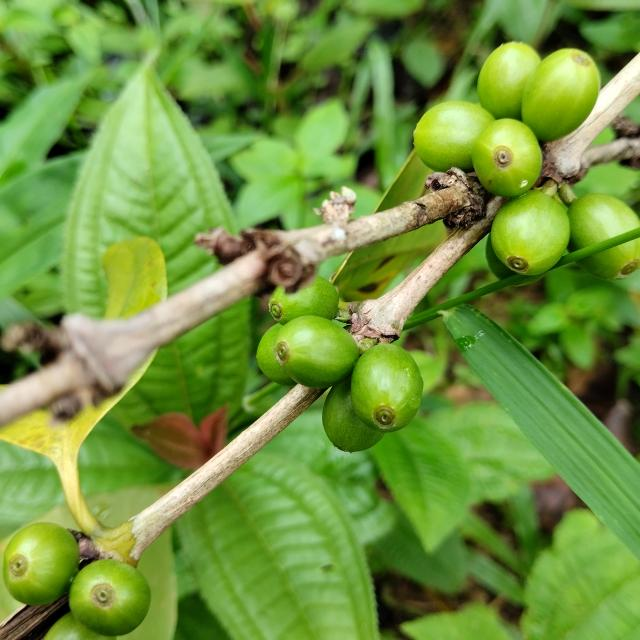green: (522, 47, 601, 141), (491, 189, 571, 275), (351, 344, 424, 433), (2, 524, 79, 607), (274, 315, 359, 389), (69, 560, 150, 637), (414, 100, 495, 171), (472, 118, 543, 197), (478, 41, 542, 119), (322, 378, 384, 453), (568, 193, 640, 251), (269, 276, 339, 325), (579, 238, 640, 280), (256, 324, 296, 386)
